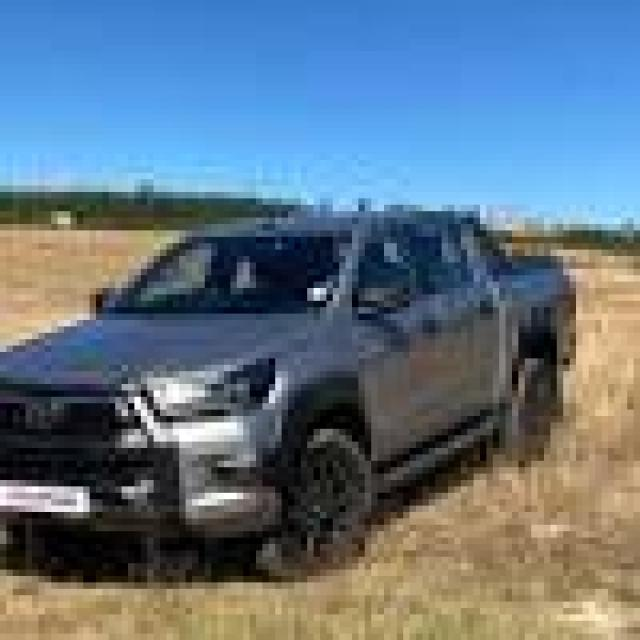Pickup Trucks: (6, 198, 576, 582)
